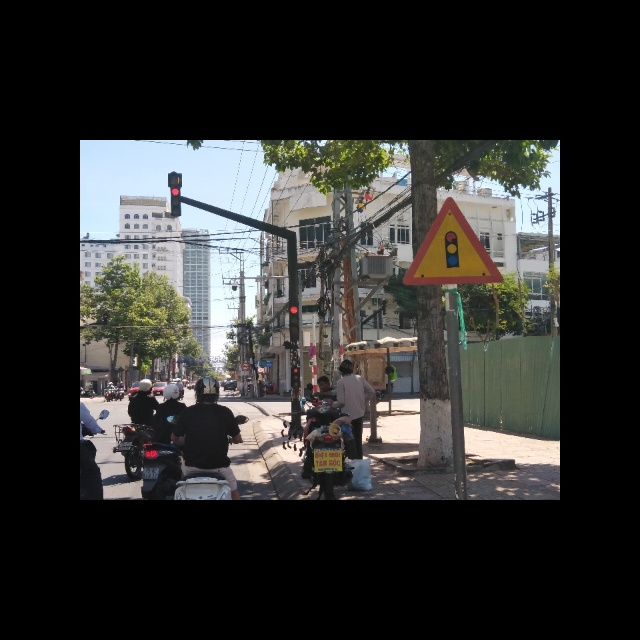Giao nhau có tín hiệu đèn: (399, 198, 502, 286)
Đèn đỏ: (289, 305, 299, 314)
